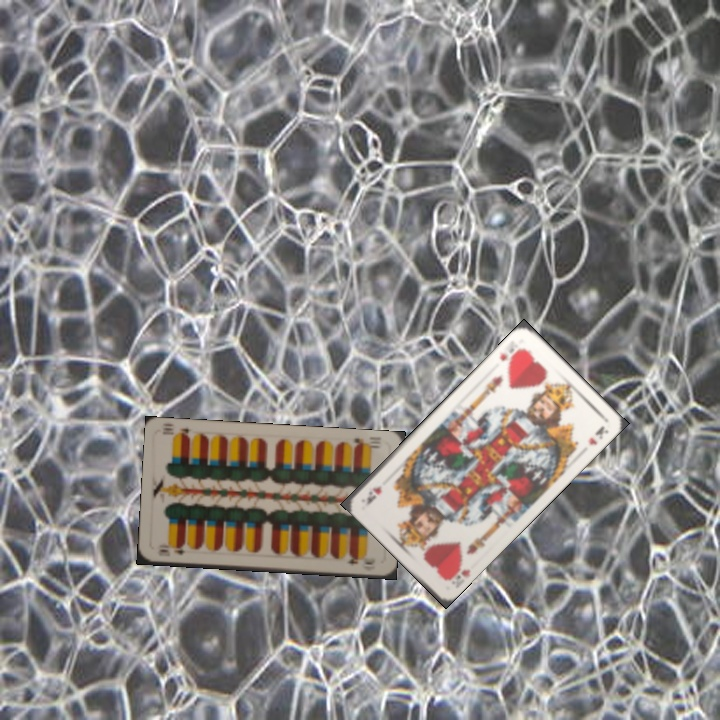E10: (350, 434, 383, 452), (153, 542, 187, 559)
HK: (496, 341, 526, 368), (441, 559, 473, 583)
